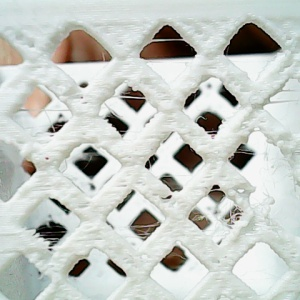3dpstringing: (232, 141, 292, 180), (145, 160, 197, 196), (18, 105, 72, 136), (267, 70, 299, 111), (30, 226, 73, 255), (126, 216, 168, 242), (219, 201, 243, 238), (113, 92, 167, 108), (252, 189, 276, 224), (147, 35, 198, 49), (138, 58, 200, 69), (194, 115, 222, 137), (156, 252, 193, 268), (98, 101, 124, 122), (188, 208, 210, 229), (95, 52, 112, 70), (207, 182, 224, 196), (118, 128, 136, 138)
3dpunderextrusion: (229, 183, 279, 221), (233, 92, 276, 132), (5, 27, 44, 60), (151, 189, 195, 212)
